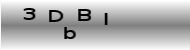3: (22, 7, 37, 20)
B: (77, 7, 92, 22)
D: (47, 8, 63, 23)
b: (62, 26, 77, 40)
l: (102, 12, 109, 26)
